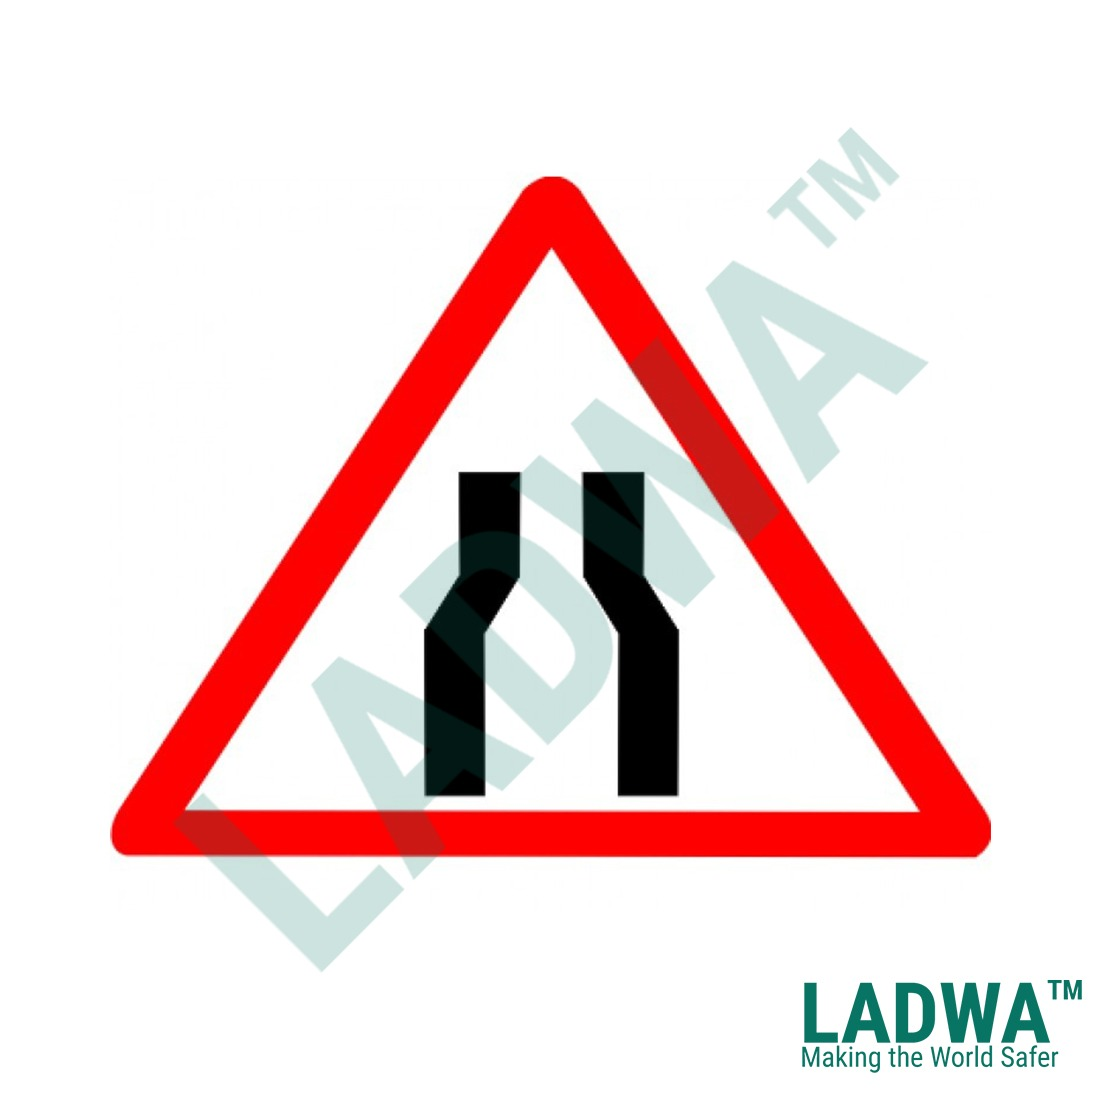narrow-road: (389, 437, 701, 818)
